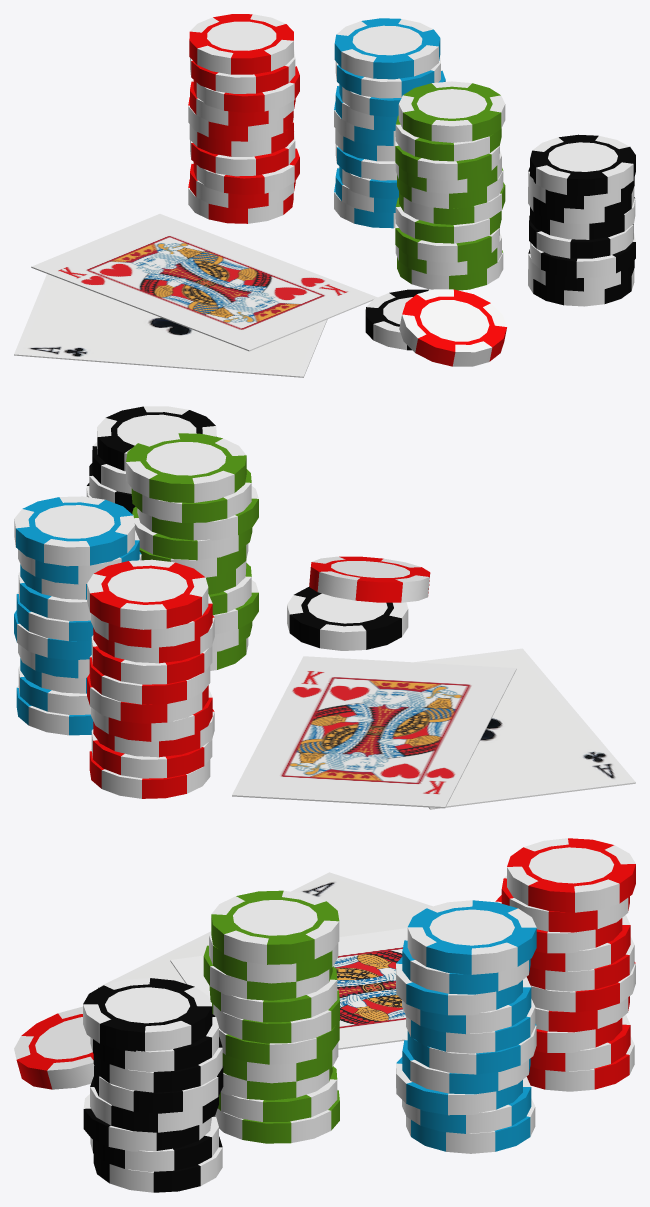
Rendered from low_poly_poker_chips.glb.
The picture shows the model from 3 angles, top to bottom: view 1: azimuth 30°, elevation 25°; view 2: azimuth 150°, elevation 25°; view 3: azimuth 270°, elevation 25°; orthographic projection. The views are drawn at different scales.
Visible parts, largest first — view 1: Plane_2, Plane_3, Cylinder_49, Cylinder_39, Cylinder_29, Cylinder_48, Cylinder_9, Cylinder_43, Cylinder_18, Cylinder_33, Cylinder_38, Cylinder_13 (+30 smaller); view 2: Plane_2, Plane_3, Cylinder_9, Cylinder_39, Cylinder_29, Cylinder_40, Cylinder_49, Cylinder_48, Cylinder_16, Cylinder_11, Cylinder_30, Cylinder_10 (+25 smaller); view 3: Plane_2, Cylinder_29, Cylinder_39, Cylinder_9, Cylinder_48, Plane_3, Cylinder_49, Cylinder_37, Cylinder_28, Cylinder_45, Cylinder_42, Cylinder_41 (+29 smaller).
Part boxes in pixels (left/top/right/bottom): Plane_2: left=31, top=214, right=377, bottom=351; Plane_3: left=14, top=274, right=327, bottom=377; Cylinder_49: left=399, top=289, right=506, bottom=366; Cylinder_39: left=398, top=81, right=505, bottom=142; Cylinder_29: left=334, top=18, right=440, bottom=79; Cylinder_48: left=530, top=134, right=635, bottom=195; Cylinder_9: left=189, top=14, right=293, bottom=74; Cylinder_43: left=530, top=233, right=635, bottom=278; Cylinder_18: left=190, top=50, right=295, bottom=93; Cylinder_33: left=395, top=219, right=499, bottom=262; Cylinder_38: left=395, top=137, right=499, bottom=180; Cylinder_13: left=190, top=132, right=295, bottom=176; Plane_2: left=232, top=656, right=516, bottom=808; Plane_3: left=414, top=648, right=635, bottom=809; Cylinder_9: left=87, top=559, right=208, bottom=629; Cylinder_39: left=126, top=433, right=246, bottom=502; Cylinder_29: left=14, top=496, right=134, bottom=566; Cylinder_40: left=287, top=587, right=408, bottom=650; Cylinder_49: left=309, top=556, right=430, bottom=602; Cylinder_48: left=97, top=406, right=216, bottom=471; Cylinder_16: left=91, top=635, right=212, bottom=684; Cylinder_11: left=91, top=729, right=212, bottom=778; Cylinder_30: left=131, top=469, right=251, bottom=522; Cylinder_10: left=89, top=749, right=210, bottom=798; Plane_2: left=170, top=928, right=407, bottom=1049; Cylinder_29: left=407, top=900, right=536, bottom=974; Cylinder_39: left=211, top=890, right=339, bottom=964; Cylinder_9: left=507, top=838, right=635, bottom=912; Cylinder_48: left=83, top=978, right=212, bottom=1051; Plane_3: left=98, top=872, right=432, bottom=988; Cylinder_49: left=14, top=1006, right=94, bottom=1089; Cylinder_37: left=209, top=966, right=337, bottom=1022; Cylinder_28: left=396, top=957, right=522, bottom=1015; Cylinder_45: left=94, top=1066, right=223, bottom=1113; Cylinder_42: left=90, top=1115, right=218, bottom=1171; Cylinder_41: left=93, top=1136, right=222, bottom=1192.
Bounding box in the file's own units: 5.9 × 1.73 × 4.81.
Materials: 8 (3 with a texture image).
